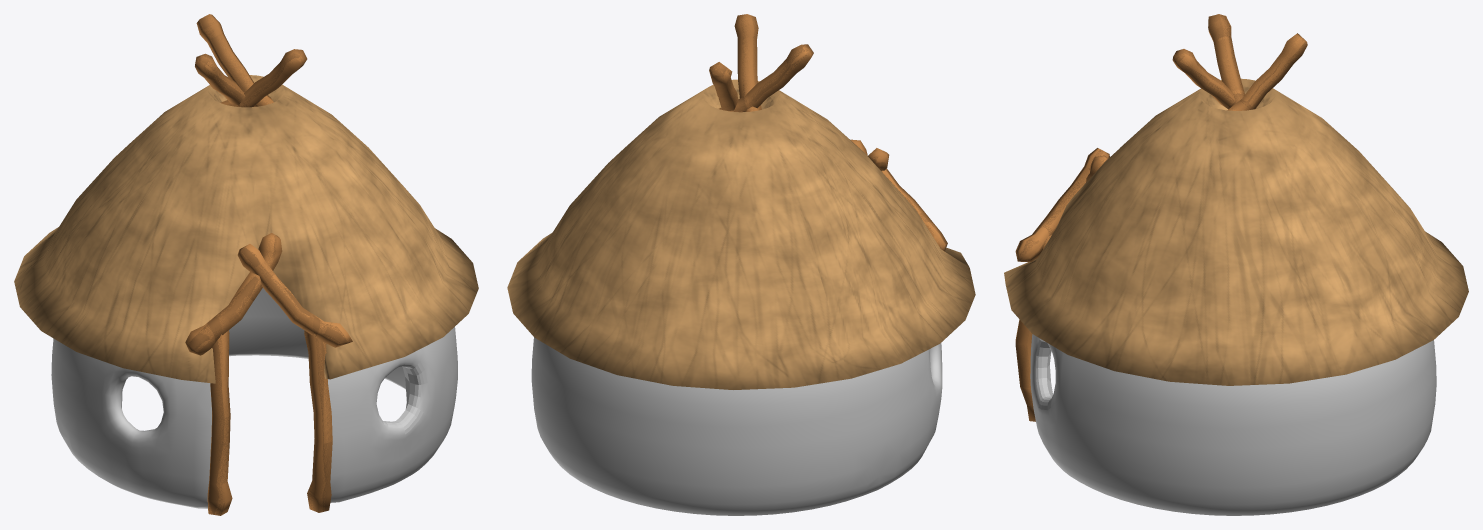
The model's file is Hut_6.fbx.
3 views of the same model, side by side, from view 1: azimuth 30°, elevation 25°; view 2: azimuth 150°, elevation 25°; view 3: azimuth 270°, elevation 25° (orthographic).
Parts seen in each view (by area): view 1: Roof, Hut, logs; view 2: Roof, Hut, logs; view 3: Roof, Hut, logs.
Boxes of the visible parts, x1,y1,x2,y2 form: Roof: (14,75,478,383); Hut: (51,288,457,508); logs: (185,14,352,515); Roof: (507,79,975,389); Hut: (531,337,942,515); logs: (709,14,947,251); Roof: (1004,78,1468,385); Hut: (1030,334,1436,515); logs: (1015,14,1307,421).
Size of the model in its own units: 777 by 740 by 780.
